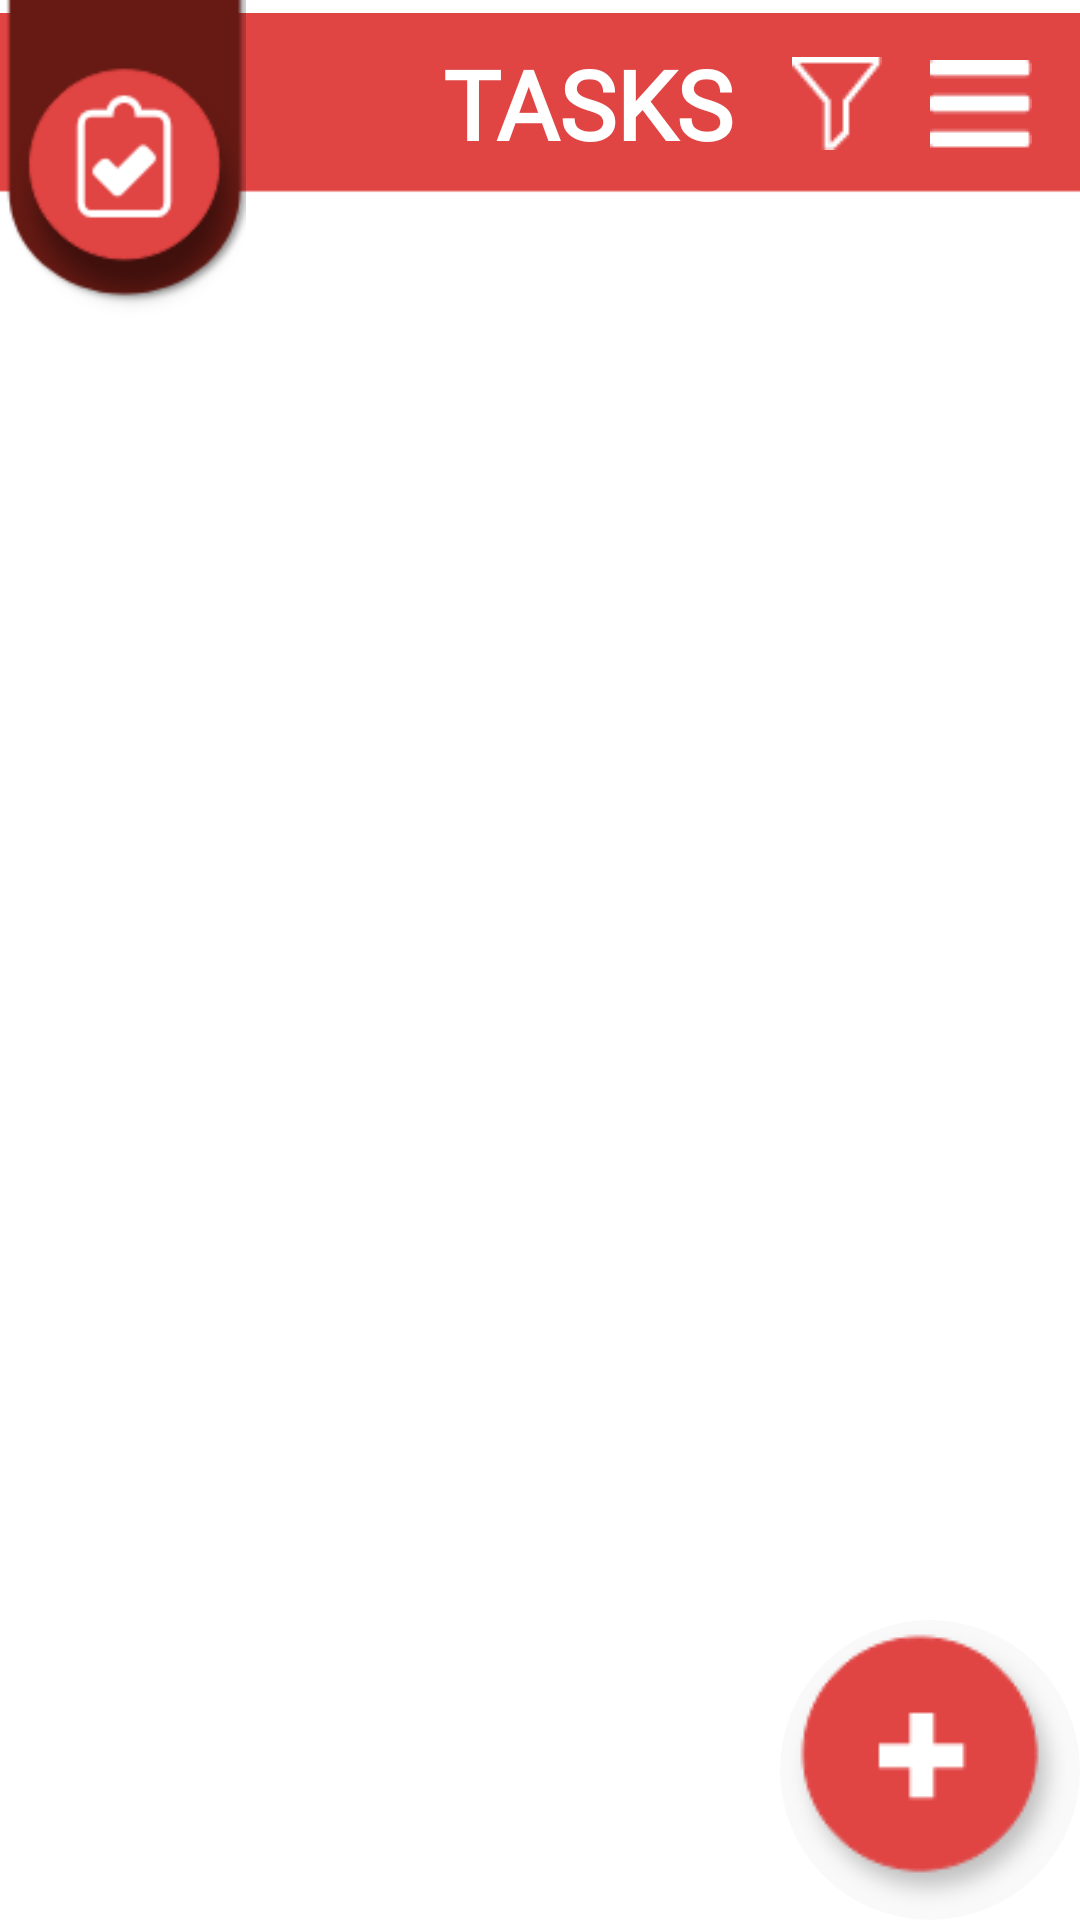

Where to tap for icons on this 1080*1920 app screen, as [x,y]:
create: [925,1762]
